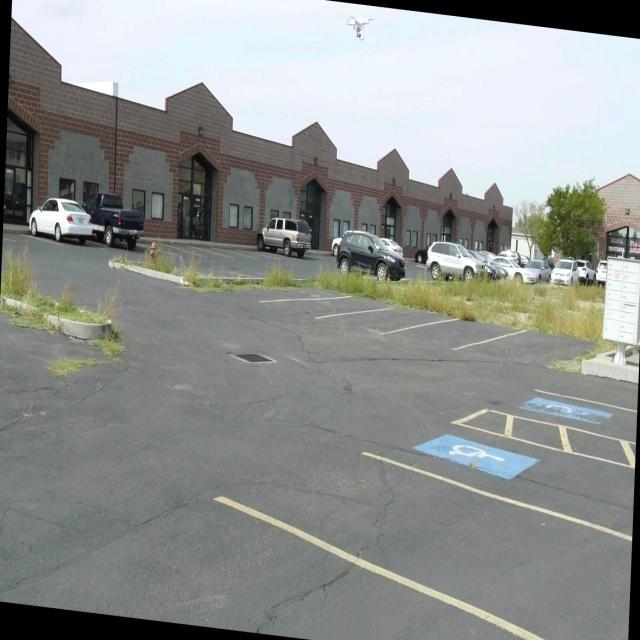drone: (344, 6, 370, 44)
